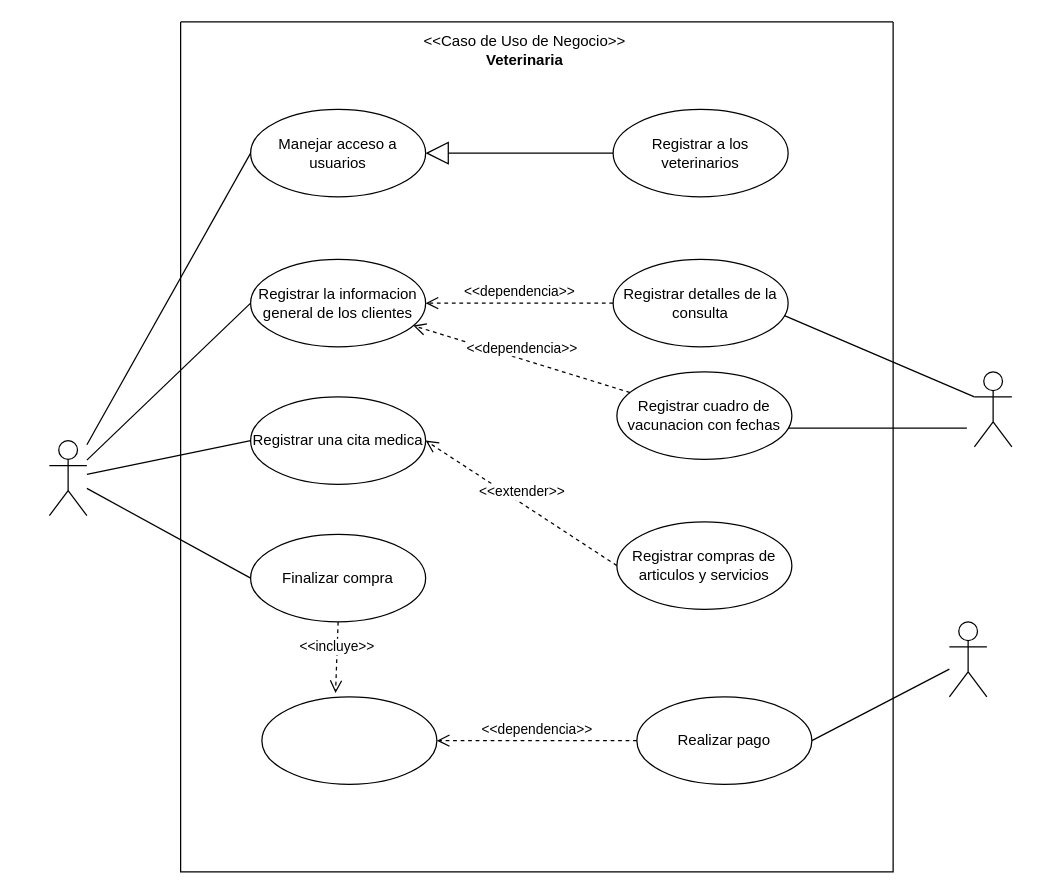
Some shapes in this 1050 by 894 pixel diagram are drawn without their labels. Each missing label, with the centre of its shape:
Administrador: point 67,477
Pasarela de pago: point 967,659
Verificar metodo de pago: point 349,740
Veterinario: point 992,409
